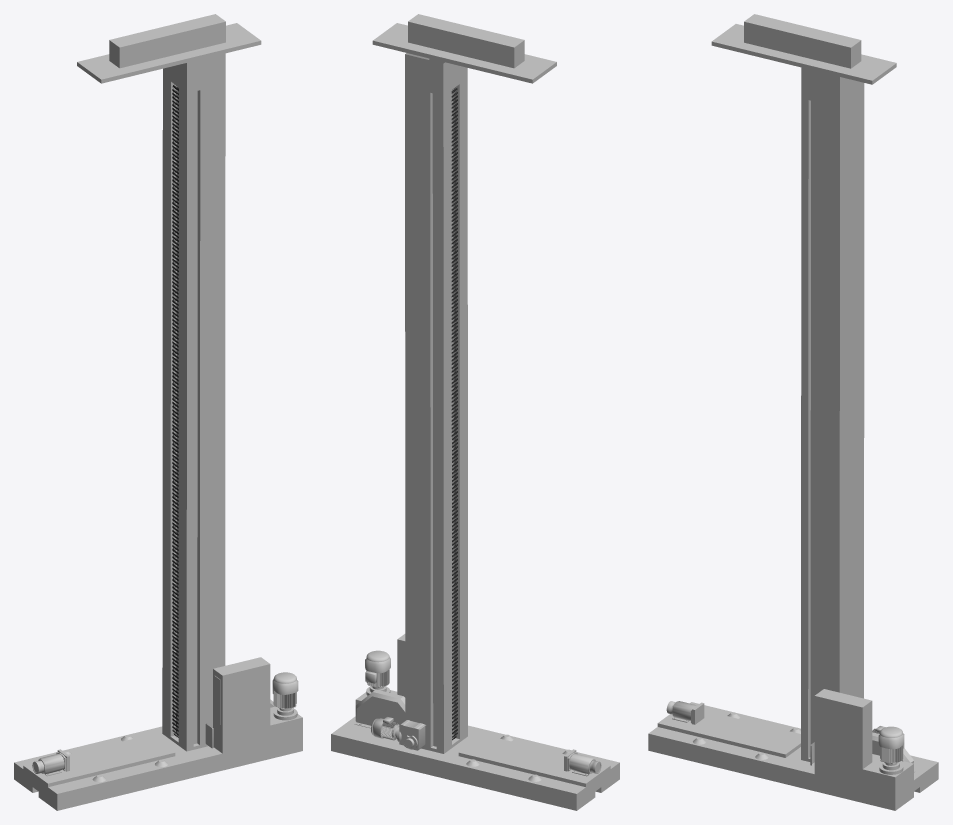
The model's file is Stacker Crane.FBX.
The picture shows the model from 3 angles, left to right: view 1: azimuth 30°, elevation 25°; view 2: azimuth 150°, elevation 25°; view 3: azimuth 330°, elevation 25°; orthographic projection.
Parts seen in each view (by area): view 1: Stacker Crane, Stacker Crane_Chain, Stacker Crane_engine; view 2: Stacker Crane, Stacker Crane_Chain, Stacker Crane_engine; view 3: Stacker Crane, Stacker Crane_engine.
Boxes of the visible parts, x1,y1,x2,y2 form: Stacker Crane: (14, 14, 302, 810); Stacker Crane_Chain: (172, 84, 178, 737); Stacker Crane_engine: (32, 672, 298, 776); Stacker Crane: (331, 14, 619, 810); Stacker Crane_Chain: (451, 87, 457, 740); Stacker Crane_engine: (365, 650, 601, 776); Stacker Crane: (648, 14, 938, 810); Stacker Crane_engine: (666, 701, 904, 774).
Bounding box in the file's own units: 2.87 × 8.23 × 0.9065.
